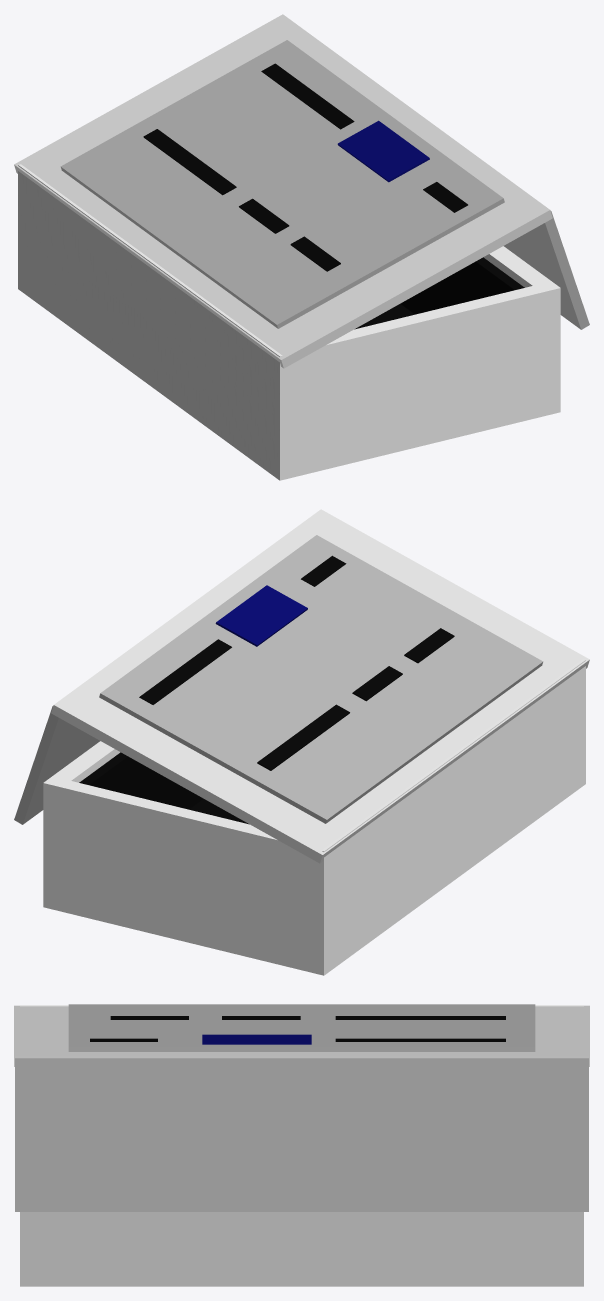
Rendered from boxER.fbx.
The picture shows the model from 3 angles, top to bottom: view 1: azimuth 30°, elevation 25°; view 2: azimuth 150°, elevation 25°; view 3: azimuth 270°, elevation 25°; orthographic projection. The views are drawn at different scales.
Parts seen in each view (by area): view 1: Cube, Cube.004, Cube.001, Cube.003, Cube.002, Cube.010, Cube.007, Cube.005, Cube.008, Cube.009, Cube.006; view 2: Cube, Cube.004, Cube.001, Cube.003, Cube.002, Cube.010, Cube.007, Cube.005, Cube.008, Cube.009, Cube.006; view 3: Cube.002, Cube, Cube.004, Cube.001, Cube.010, Cube.007, Cube.005.
Part boxes in pixels (<box>): Cube: <box>18,164,560,480</box>; Cube.004: <box>60,40,504,328</box>; Cube.001: <box>14,14,552,368</box>; Cube.003: <box>354,257,524,329</box>; Cube.002: <box>504,210,589,329</box>; Cube.010: <box>337,120,429,182</box>; Cube.007: <box>143,129,236,195</box>; Cube.005: <box>261,63,354,129</box>; Cube.008: <box>239,198,289,233</box>; Cube.009: <box>290,236,340,271</box>; Cube.006: <box>423,182,467,212</box>; Cube: <box>43,659,585,975</box>; Cube.004: <box>99,535,543,823</box>; Cube.001: <box>51,509,589,863</box>; Cube.003: <box>79,752,249,824</box>; Cube.002: <box>14,705,99,824</box>; Cube.010: <box>215,585,307,646</box>; Cube.007: <box>257,704,349,770</box>; Cube.005: <box>139,639,231,704</box>; Cube.008: <box>352,666,402,701</box>; Cube.009: <box>404,628,454,663</box>; Cube.006: <box>301,555,346,586</box>; Cube.002: <box>15,1058,588,1211</box>; Cube: <box>20,1005,583,1286</box>; Cube.004: <box>68,1004,535,1051</box>; Cube.001: <box>14,1005,589,1066</box>; Cube.010: <box>202,1034,311,1044</box>; Cube.007: <box>335,1016,505,1019</box>; Cube.005: <box>335,1038,505,1041</box>.
Size of the model in its own units: 132 by 84.43 by 197.
